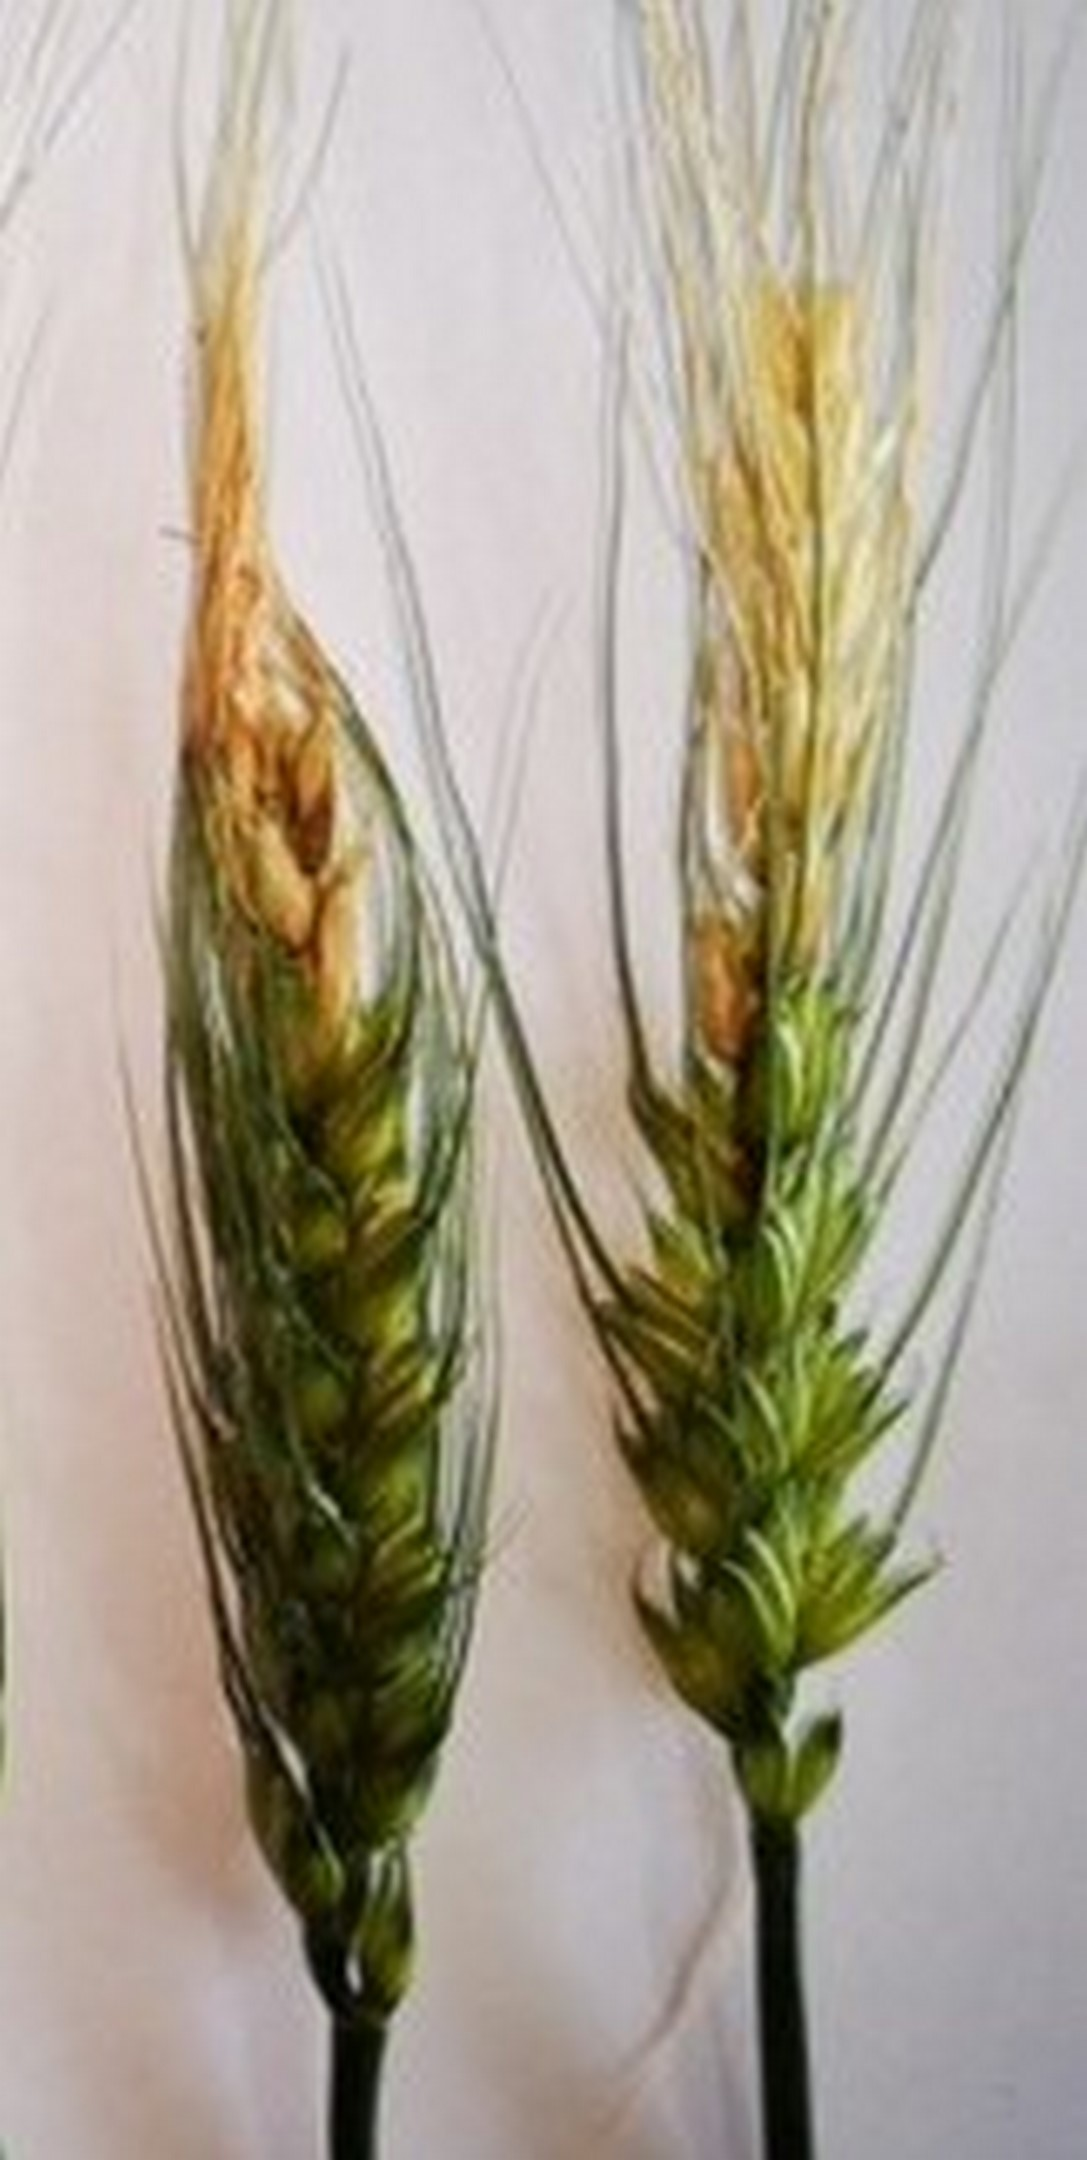Wheat scab: (133, 233, 521, 2003), (605, 161, 1009, 1824)
